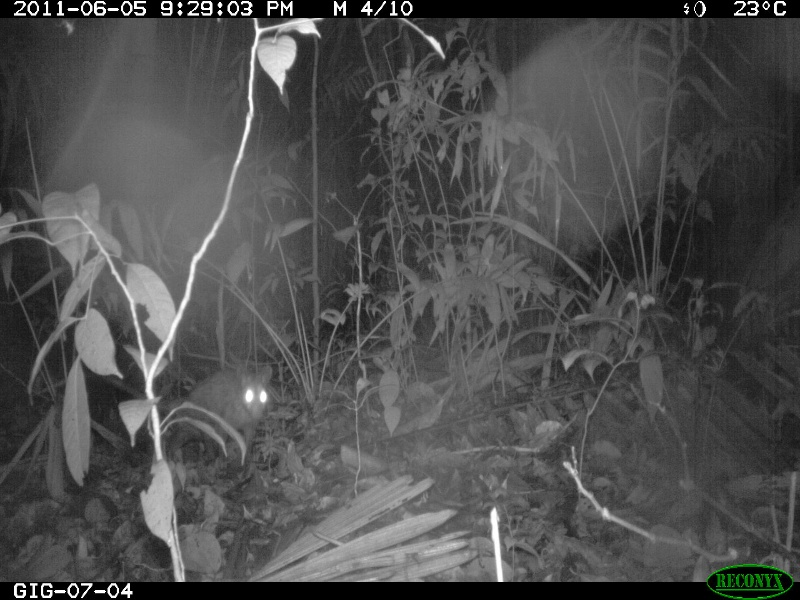opossum: (155, 359, 279, 458)
